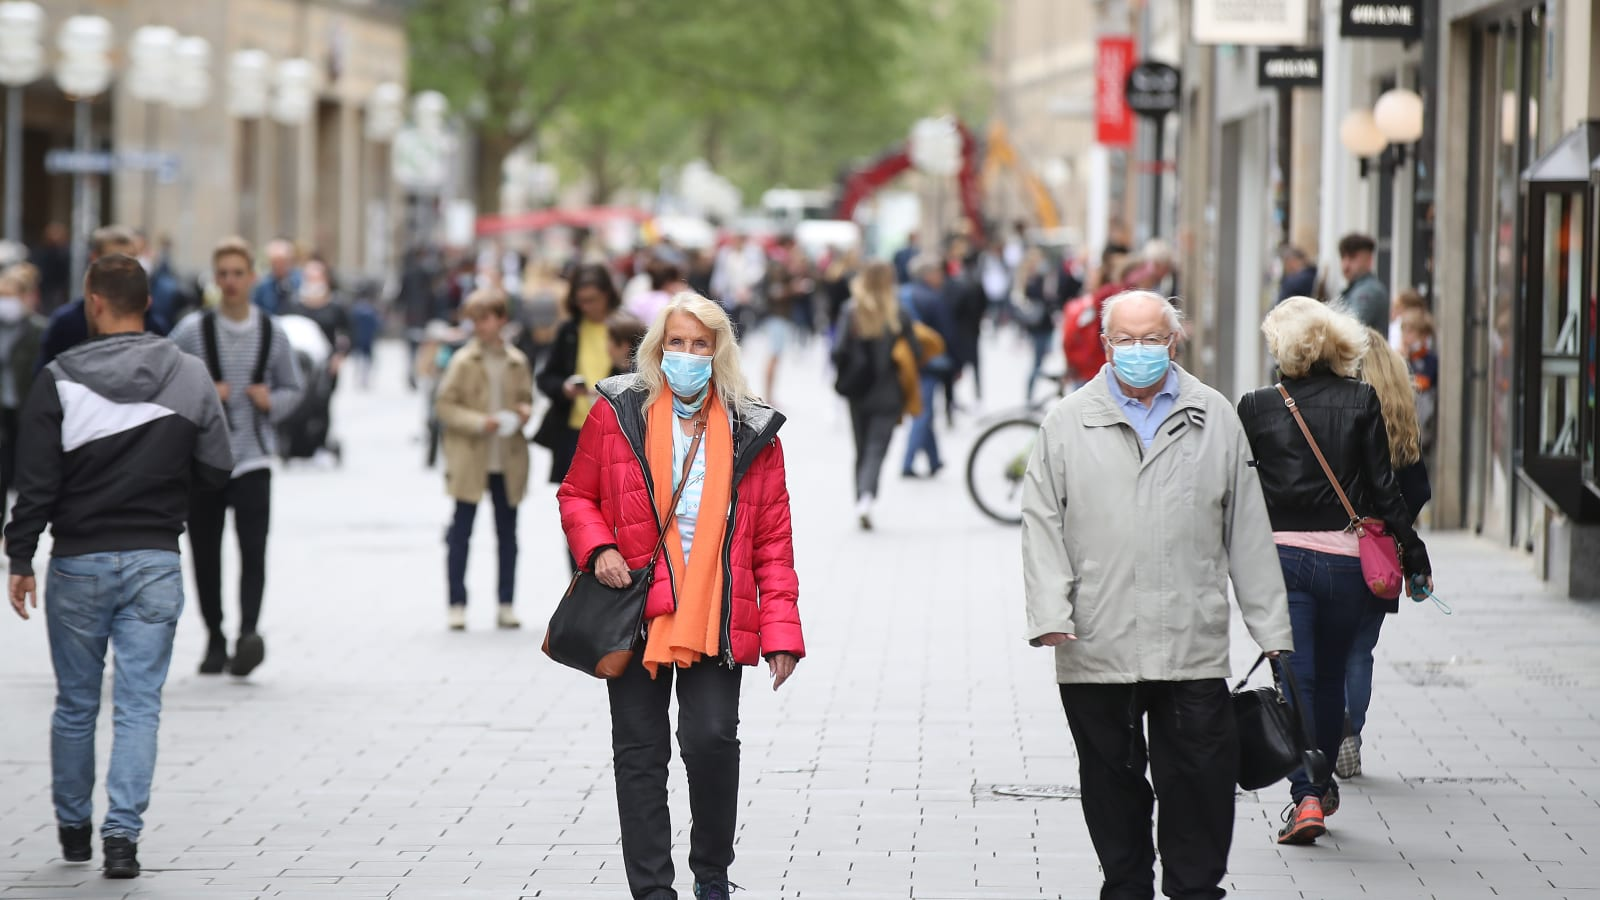person: (981, 279, 1318, 900), (530, 283, 830, 900), (5, 246, 244, 889), (1227, 282, 1426, 853), (164, 242, 310, 683), (412, 282, 555, 637), (821, 251, 931, 550)
